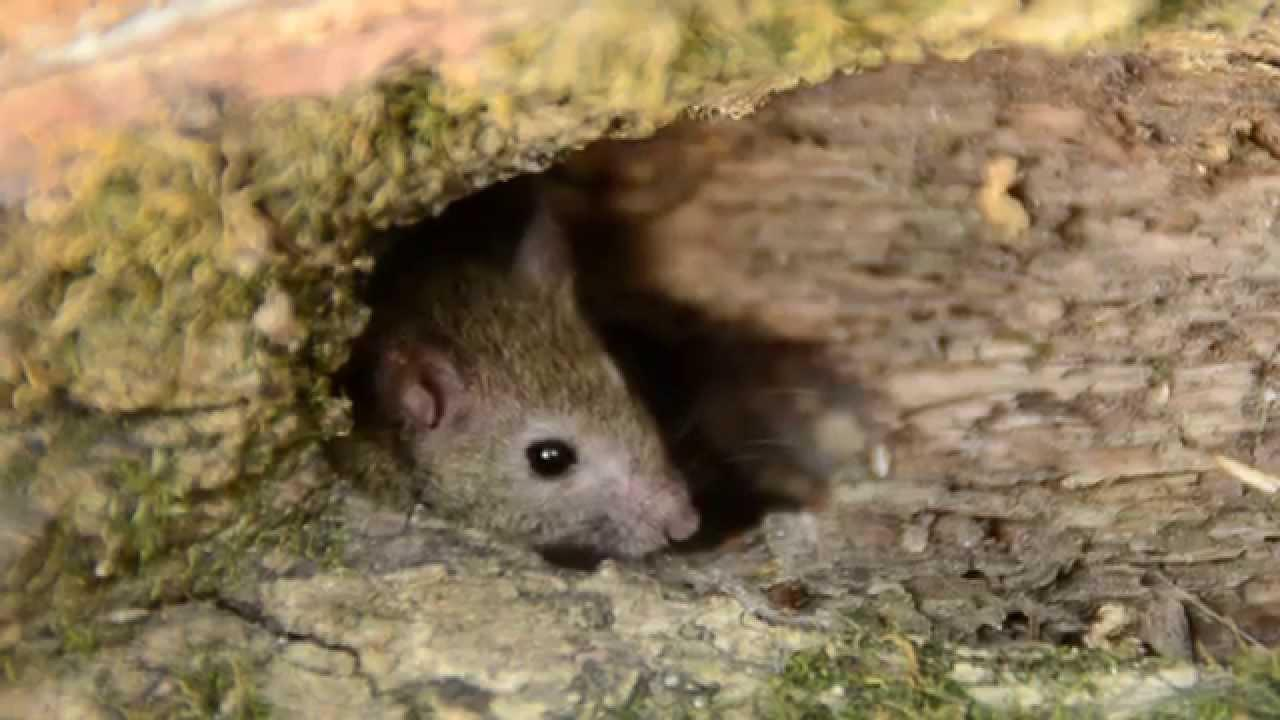rat: (360, 221, 700, 557)
